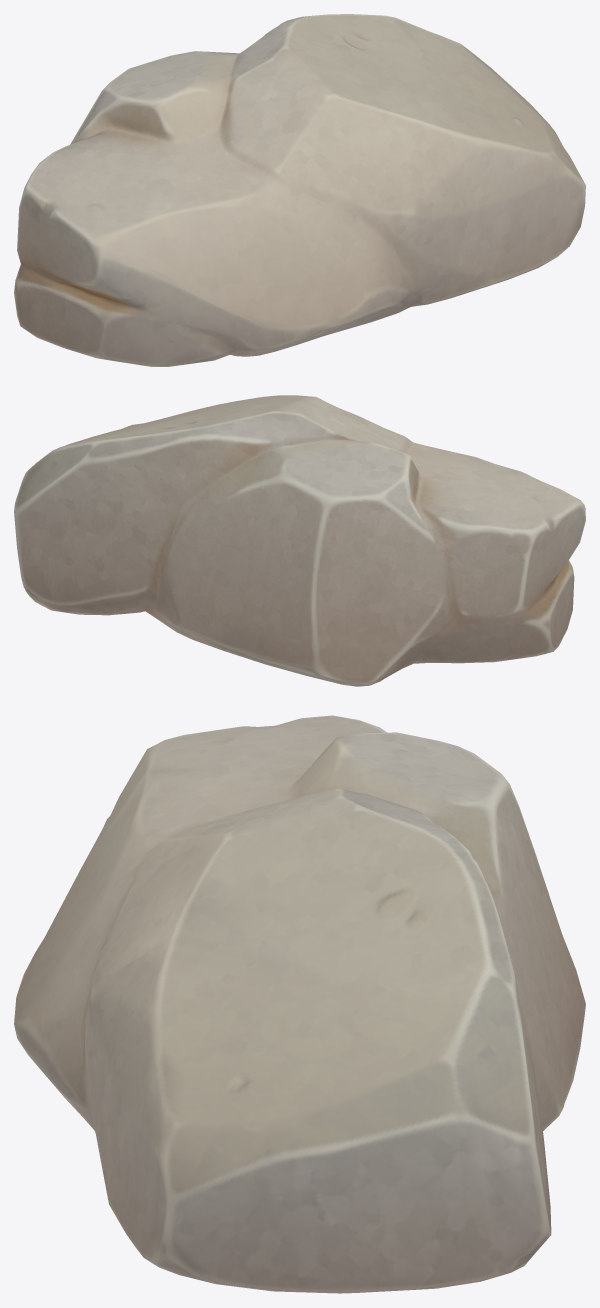
File: rock6.glb
The picture shows the model from 3 angles, top to bottom: view 1: azimuth 30°, elevation 25°; view 2: azimuth 150°, elevation 25°; view 3: azimuth 270°, elevation 25°; orthographic projection. The views are drawn at different scales.
Visible parts, largest first — view 1: Rock6; view 2: Rock6; view 3: Rock6.
Part boxes in pixels (x1,y1,x2,y2): Rock6: (14, 14, 585, 366); Rock6: (14, 395, 585, 686); Rock6: (14, 715, 585, 1293).
Bounding box in the file's own units: 1.73 × 0.6838 × 1.1.
Materials: 1 (1 with a texture image).
